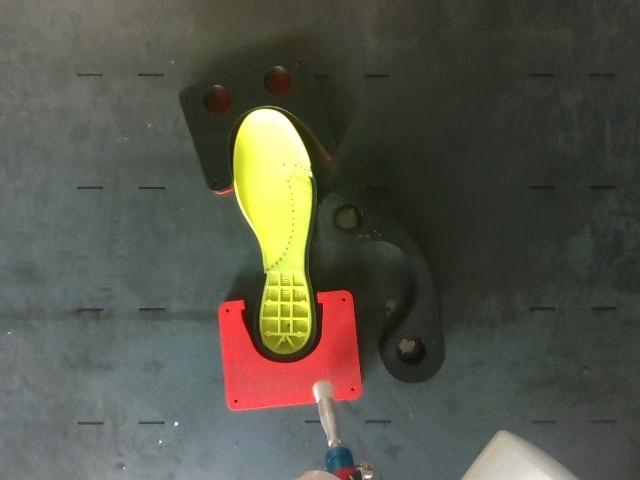shoes: (234, 110, 317, 358)
